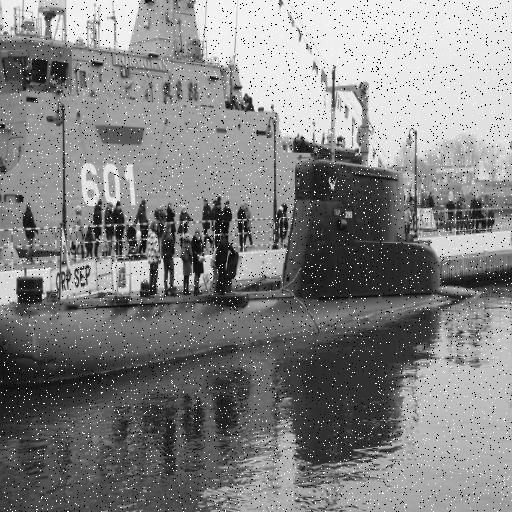submarine: (1, 163, 483, 391)
